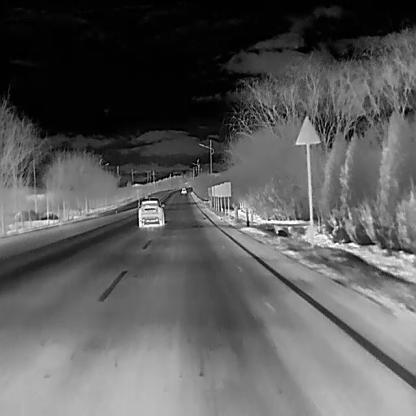car: (137, 199, 165, 227), (180, 186, 186, 194)
